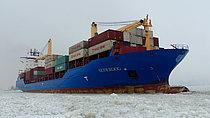Ship: (8, 13, 194, 96)
